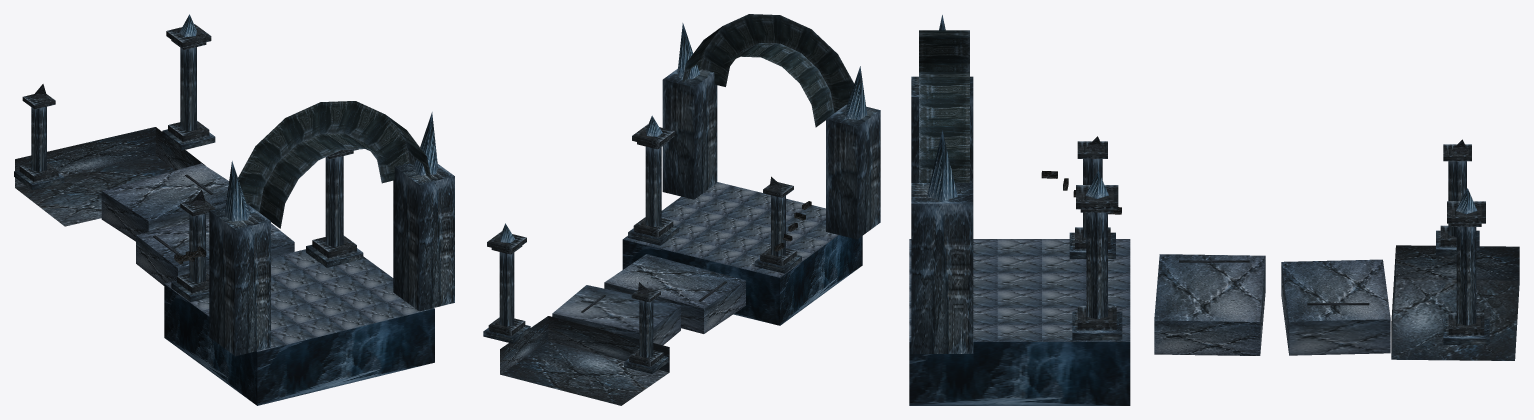
Rendered from citadel_approach_0.obj.
3 renders of one model, left to right at view 1: azimuth 30°, elevation 25°; view 2: azimuth 150°, elevation 25°; view 3: azimuth 270°, elevation 25°, orthographic. The views are drawn at different scales.
Visible parts, largest first — view 1: citadel_approach_0; view 2: citadel_approach_0; view 3: citadel_approach_0.
Part boxes in pixels (x1,y1,x2,y2): citadel_approach_0: [14, 14, 454, 405]; citadel_approach_0: [483, 14, 880, 405]; citadel_approach_0: [909, 15, 1519, 405].
Size of the model in its own units: 13.6 by 15.6 by 27.61.
1 material, 1 textured.
